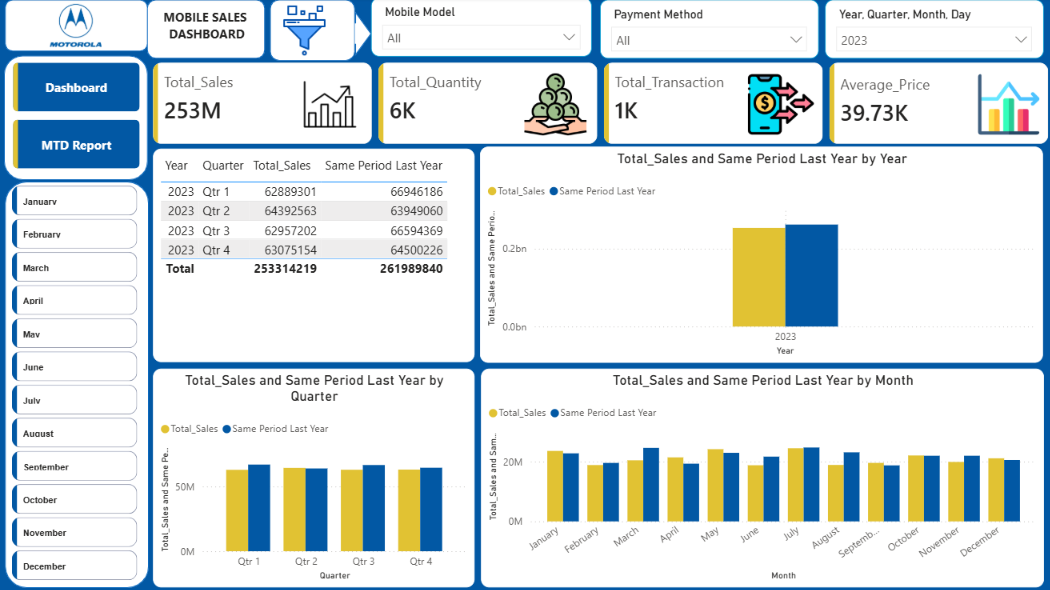

The dashboard page shown, as its layout file describes it:
{"tool":"powerbi","page":{"name":"Same Period Last Year","canvas":[1280,720],"ordinal":2},"visuals":[{"type":"shape","box":[15.3,222.2,173.6,490.3],"z":0},{"type":"shape","box":[418.5,16.3,39.1,53.3],"z":1000},{"type":"shape","box":[15.3,2.8,172.2,62.5],"z":2000},{"type":"image","box":[46.2,2.5,110,62.5],"z":3000},{"type":"shape","box":[13.9,69.4,173.6,150],"z":4000},{"type":"cardVisual","fields":{"Data":["Mobile Sales Data.Total_Sales","Mobile Sales Data.Total_Quantity","Mobile Sales Data.Total_Transaction","Mobile Sales Data.Average_Price"]},"box":[189.1,73.9,1091.3,108.7],"z":5000},{"type":"slicer","fields":{"Values":["Mobile Sales Data.Mobile Model"]},"box":[457.5,0,266.2,71.2],"z":6000},{"type":"slicer","fields":{"Values":["Mobile Sales Data.Payment Method"]},"box":[733.8,2.5,263.8,71.2],"z":7000},{"type":"slicer","fields":{"Values":["Custom Calender.Date.Variation.Date Hierarchy.Year","Custom Calender.Date.Variation.Date Hierarchy.Quarter","Custom Calender.Date.Variation.Date Hierarchy.Month","Custom Calender.Date.Variation.Date Hierarchy.Day"]},"box":[1005,2.5,263.8,71.2],"z":8000},{"type":"shape","box":[335,2.5,102.5,73.8],"z":9000},{"type":"image","box":[326.2,8.8,102.5,62.5],"z":10000},{"type":"shape","box":[187.5,2.5,142.5,71.2],"z":11000},{"type":"textbox","box":[195,8.8,127.5,56.2],"z":12000},{"type":"advancedSlicerVisual","fields":{"Values":["Custom Calender.Date.Variation.Date Hierarchy.Month"]},"box":[19.7,222.5,162,497.2],"z":13000},{"type":"tableEx","fields":{"Values":["Custom Calender.Date.Variation.Date Hierarchy.Year","Custom Calender.Date.Variation.Date Hierarchy.Quarter","Mobile Sales Data.Total_Sales","Mobile Sales Data.Same Period Last Year"]},"box":[194.6,182.6,388,257.6],"z":14000},{"type":"clusteredColumnChart","fields":{"Category":["Custom Calender.Date.Variation.Date Hierarchy.Year","Custom Calender.Date.Variation.Date Hierarchy.Quarter"],"Y":["Mobile Sales Data.Total_Sales","Mobile Sales Data.Same Period Last Year"]},"box":[589.1,179.3,679.3,260.9],"z":15000},{"type":"clusteredColumnChart","fields":{"Y":["Mobile Sales Data.Total_Sales","Mobile Sales Data.Same Period Last Year"],"Category":["Custom Calender.Date.Variation.Date Hierarchy.Year","Custom Calender.Date.Variation.Date Hierarchy.Quarter","Custom Calender.Date.Variation.Date Hierarchy.Month","Custom Calender.Date.Variation.Date Hierarchy.Day"]},"box":[194.6,447.8,388,264.1],"z":16000},{"type":"clusteredColumnChart","fields":{"Y":["Mobile Sales Data.Total_Sales","Mobile Sales Data.Same Period Last Year"],"Category":["Custom Calender.Date.Variation.Date Hierarchy.Year","Custom Calender.Date.Variation.Date Hierarchy.Quarter","Custom Calender.Date.Variation.Date Hierarchy.Month","Custom Calender.Date.Variation.Date Hierarchy.Day"]},"box":[590.2,447.8,679.3,264.1],"z":17000},{"type":"pageNavigator","box":[25,78.6,153.6,129.8],"z":18000}]}

Visuals, with their boxes in screenshot pixels (x1, y1, x2, y2), scaled from the page's 1280x720 canvas onto the 1050x590 screenshot:
shape: crop(13, 182, 155, 584)
shape: crop(343, 13, 375, 57)
shape: crop(13, 2, 154, 54)
image: crop(38, 2, 128, 53)
shape: crop(11, 57, 154, 180)
cardVisual - Mobile Sales Data.Total_Sales x Mobile Sales Data.Total_Quantity: crop(155, 61, 1049, 150)
slicer - Mobile Sales Data.Mobile Model: crop(375, 0, 594, 58)
slicer - Mobile Sales Data.Payment Method: crop(602, 2, 818, 60)
slicer - Custom Calender.Date.Variation.Date Hierarchy.Year x Custom Calender.Date.Variation.Date Hierarchy.Quarter: crop(824, 2, 1041, 60)
shape: crop(275, 2, 359, 63)
image: crop(268, 7, 352, 58)
shape: crop(154, 2, 271, 60)
textbox: crop(160, 7, 265, 53)
advancedSlicerVisual - Custom Calender.Date.Variation.Date Hierarchy.Month: crop(16, 182, 149, 589)
tableEx - Custom Calender.Date.Variation.Date Hierarchy.Year x Custom Calender.Date.Variation.Date Hierarchy.Quarter: crop(160, 150, 478, 361)
clusteredColumnChart - Custom Calender.Date.Variation.Date Hierarchy.Year x Custom Calender.Date.Variation.Date Hierarchy.Quarter: crop(483, 147, 1040, 361)
clusteredColumnChart - Mobile Sales Data.Total_Sales x Mobile Sales Data.Same Period Last Year: crop(160, 367, 478, 583)
clusteredColumnChart - Mobile Sales Data.Total_Sales x Mobile Sales Data.Same Period Last Year: crop(484, 367, 1041, 583)
pageNavigator: crop(21, 64, 147, 171)
